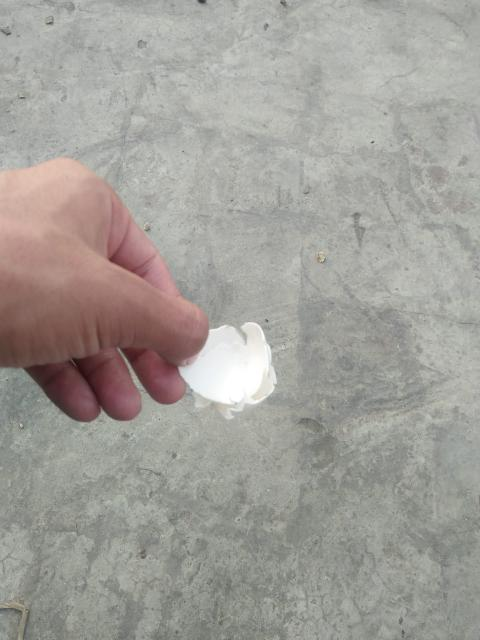Roto: (176, 320, 277, 420)
